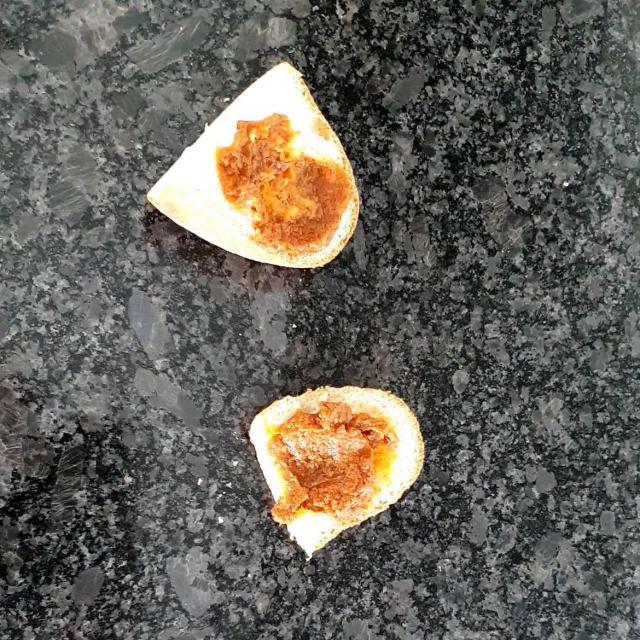bread-white: (166, 70, 455, 554)
